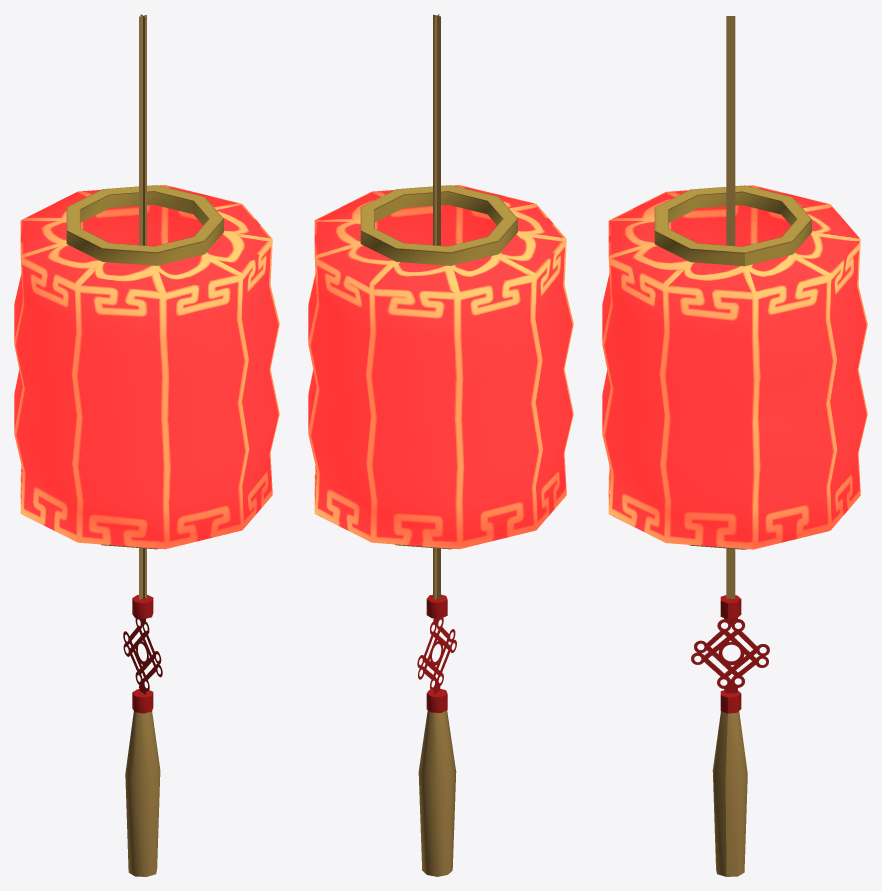
Rendered from lantern05.fbx.
3 views of the same model, side by side, from view 1: azimuth 30°, elevation 25°; view 2: azimuth 150°, elevation 25°; view 3: azimuth 270°, elevation 25° (orthographic).
Visible parts, largest first — view 1: lantern05; view 2: lantern05; view 3: lantern05.
Part boxes in pixels (box(x1,y1,x2,y2)): lantern05: box(14, 14, 279, 876); lantern05: box(308, 14, 573, 876); lantern05: box(602, 16, 867, 876).
Bounding box in the file's own units: 57.17 × 200 × 56.3.
Materials: 1 (1 with a texture image).
